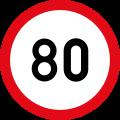Speed Limit -80-: (28, 34, 94, 85)
